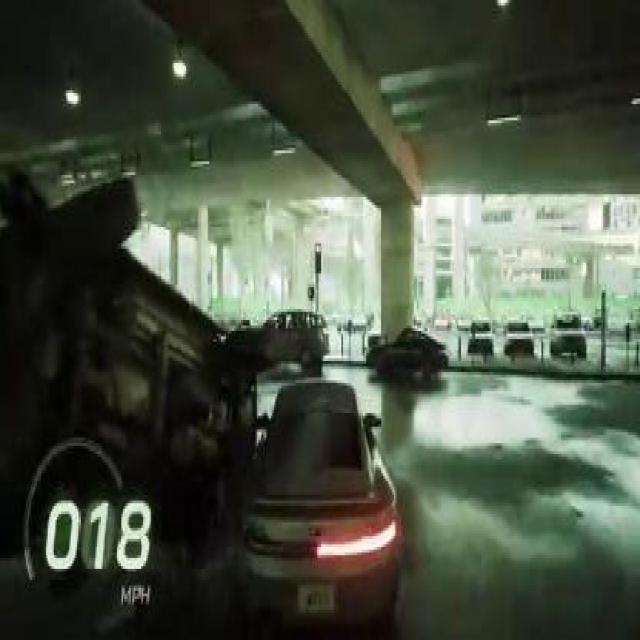accident: (0, 149, 406, 639)
